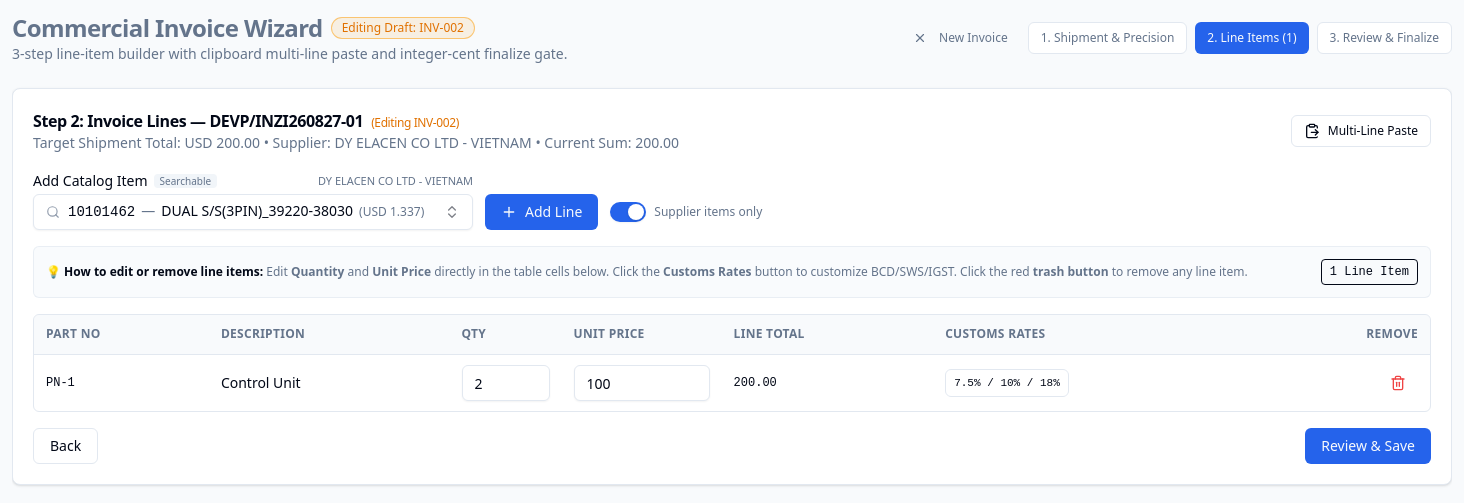
Stage 5 Shipments & Invoice Wizard UI › loads draft invoice into InvoiceWizardPage when ?id= query param is provided
Later steps or results of the test are not shown.
expect the text "Editing Draft: INV-002" is shown: met, box [331,17,475,39]
expect the text "Control Unit" is shown: met, box [209,354,450,411]
Navigate to Step 3
Click the button "Review & Save" at (1368, 446), box [1305,428,1431,464]
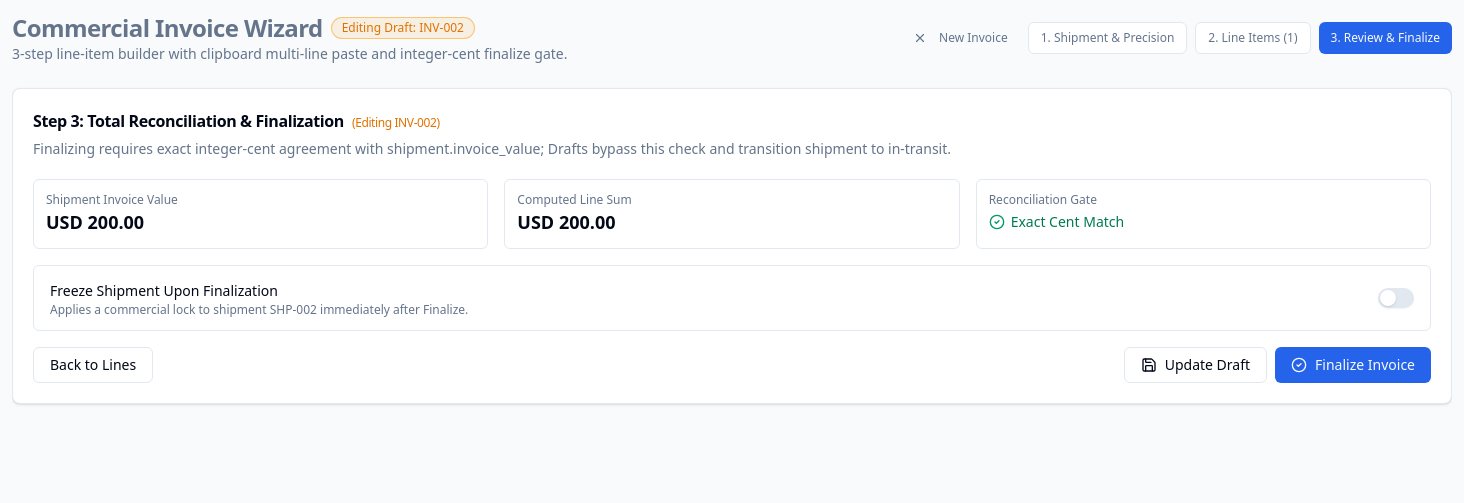
expect the text "Exact Cent Match" is shown: met, box [1011,212,1124,232]
expect the button "Finalize Invoice" is enabled: met, box [1275,347,1431,383]
expect the button "Update Draft" is enabled: met, box [1124,347,1267,383]
